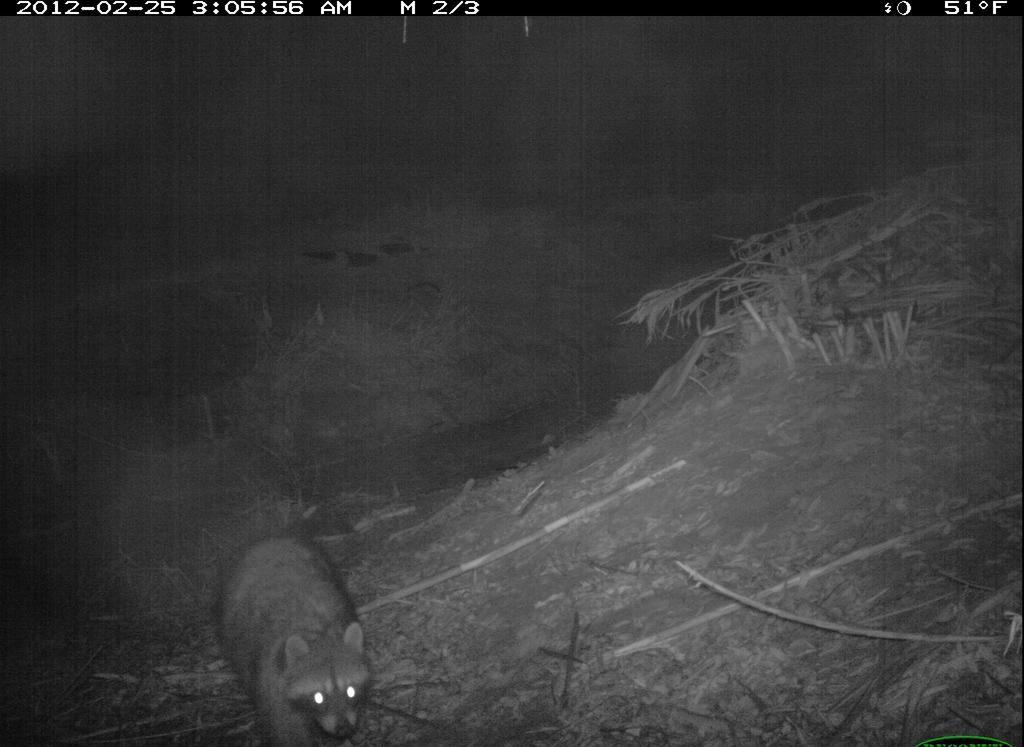raccoon: (203, 528, 381, 747)
